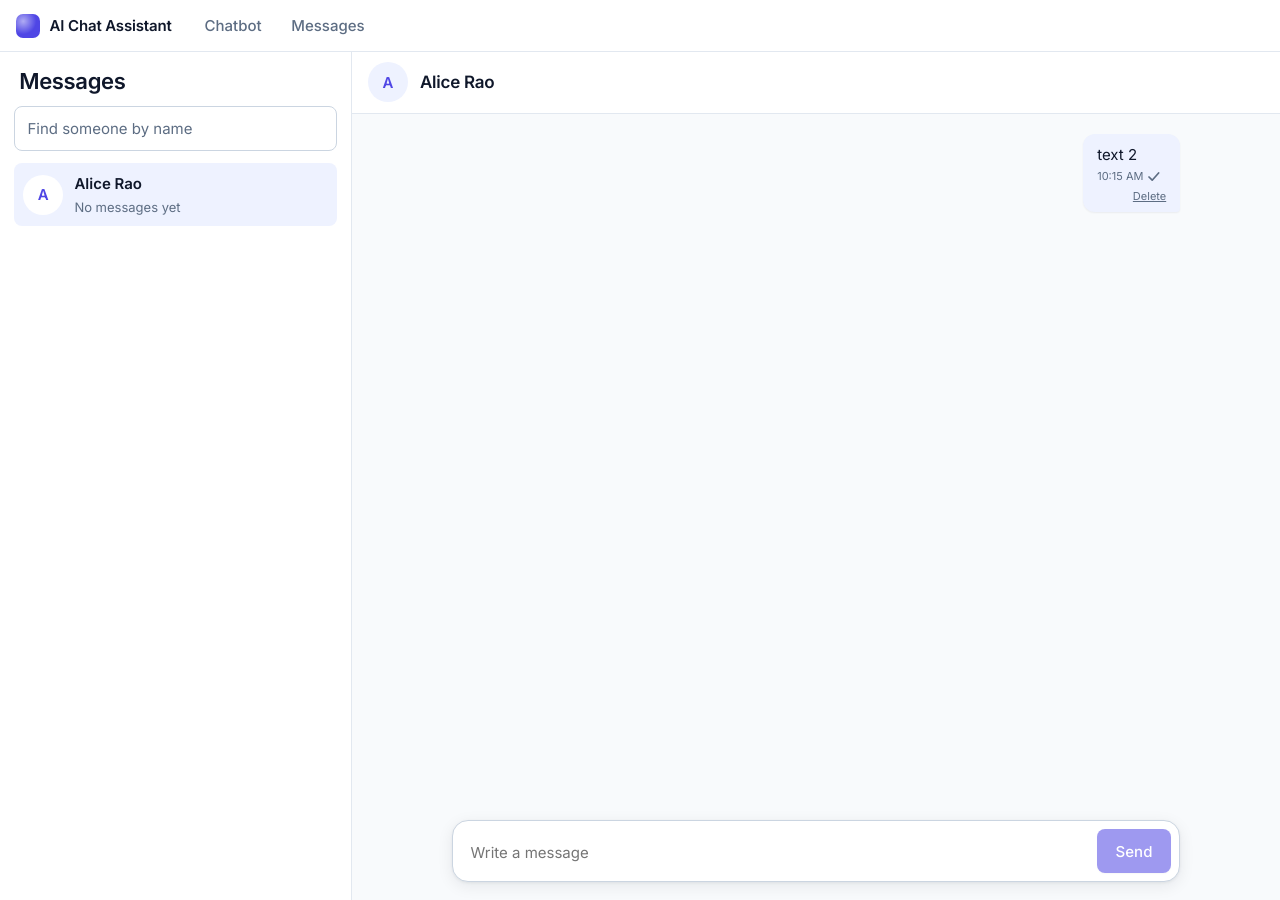
Scenario: MessagesComponent › asks "Delete for everyone?" first, and Cancel backs out without deleting
Click the button with class "delete" at [1150, 196], box [1133,188,1166,205]
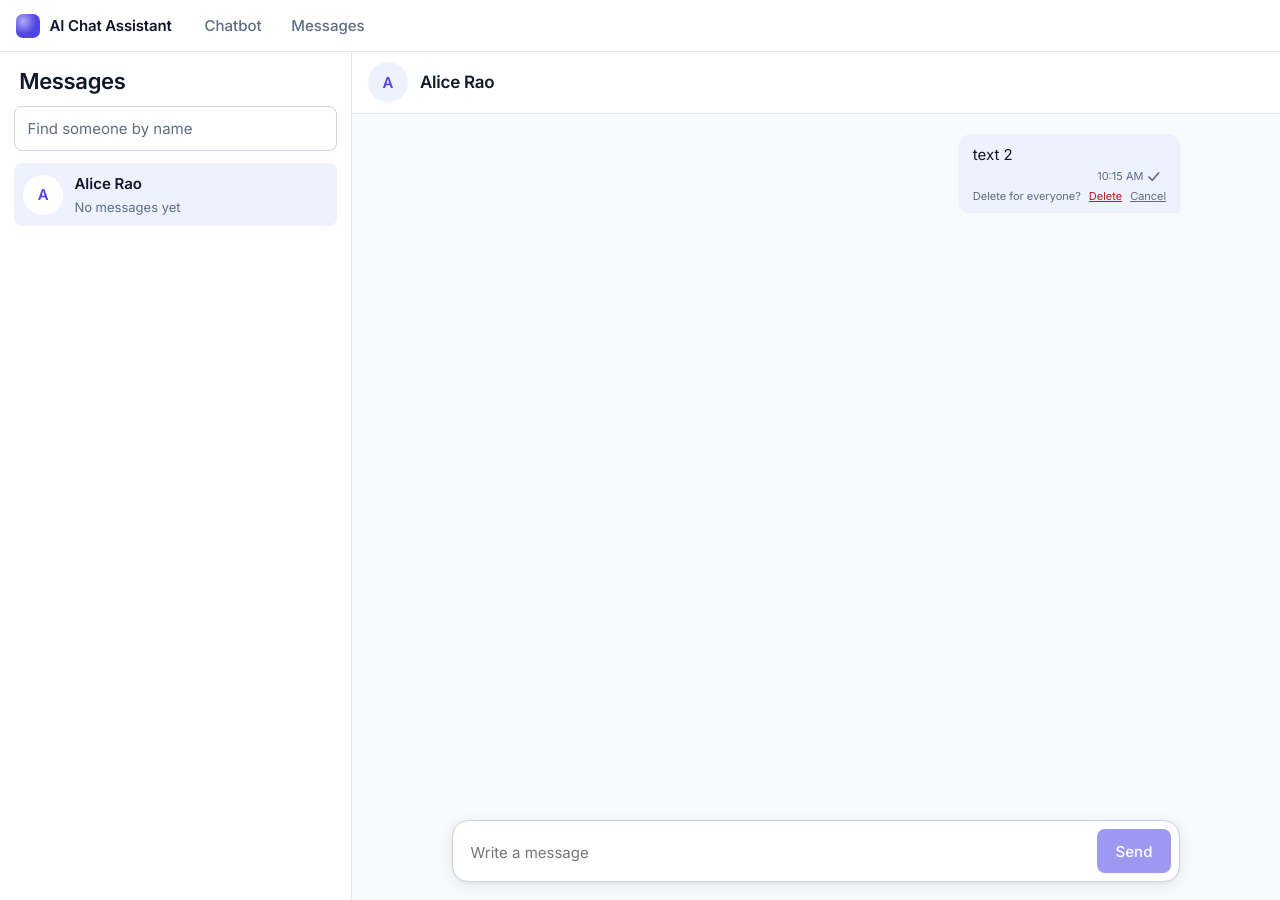
expect the element with class "confirm" shows "Delete for everyone?": met, box [973,189,1081,203]
Click the button "Cancel" at [1148, 196], box [1130,188,1166,205]
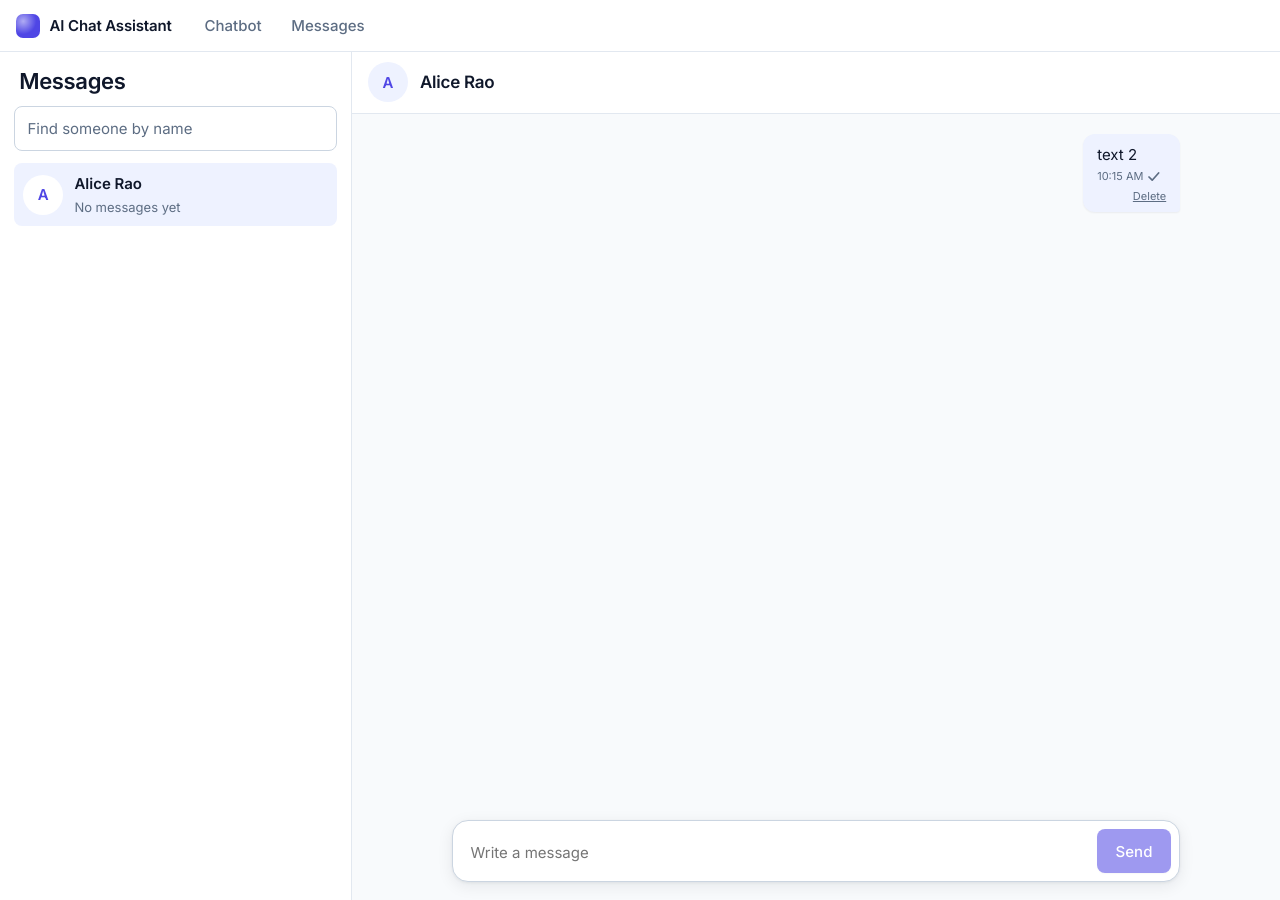
expect the element with class "confirm" is gone: met
expect the button with class "delete" is shown: met, box [1133,188,1166,205]
